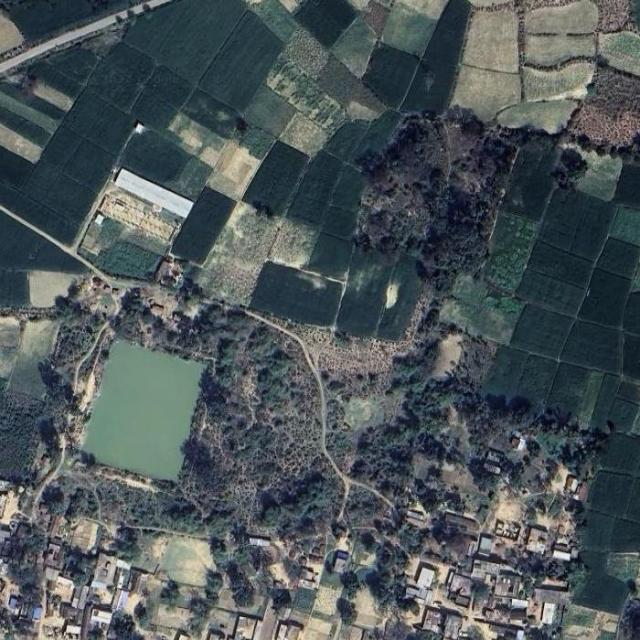land-Sx1C: (84, 342, 201, 479), (125, 0, 246, 83), (196, 201, 281, 304), (200, 11, 282, 110), (266, 54, 345, 134), (1, 0, 149, 41), (250, 261, 342, 324), (0, 377, 49, 487), (0, 212, 85, 272), (171, 186, 236, 264), (338, 250, 395, 336), (0, 184, 79, 243), (244, 141, 307, 214), (502, 142, 558, 221), (438, 294, 520, 347), (7, 319, 59, 398), (451, 65, 521, 121), (121, 130, 190, 185), (376, 255, 421, 339), (362, 44, 419, 108), (290, 151, 341, 222), (462, 10, 519, 73), (574, 551, 629, 613), (422, 0, 471, 66), (511, 305, 571, 358), (516, 269, 585, 315), (154, 535, 215, 587), (207, 141, 260, 200), (169, 113, 226, 167), (562, 321, 620, 373), (570, 104, 640, 147), (522, 60, 595, 101), (381, 4, 438, 56), (84, 241, 162, 279), (35, 174, 95, 222), (496, 99, 578, 134), (295, 0, 356, 47), (540, 189, 587, 250), (580, 269, 630, 326), (529, 242, 593, 286), (585, 65, 640, 116), (401, 61, 456, 112), (570, 198, 615, 260), (331, 18, 376, 78), (184, 90, 240, 138), (525, 0, 599, 36), (0, 91, 60, 134), (64, 140, 114, 191), (351, 110, 400, 162), (245, 86, 295, 136), (90, 61, 140, 111), (0, 81, 65, 119), (269, 219, 318, 268), (481, 346, 527, 398), (575, 151, 622, 201), (86, 106, 133, 155), (105, 42, 154, 88), (547, 364, 590, 416), (525, 35, 596, 66), (285, 29, 329, 79), (164, 156, 213, 200), (279, 113, 329, 156), (318, 54, 359, 106), (518, 355, 558, 407), (307, 233, 353, 278), (250, 0, 298, 42), (0, 106, 50, 146), (47, 47, 98, 86), (30, 61, 81, 99), (589, 471, 633, 515), (40, 126, 84, 169), (598, 31, 640, 76), (27, 270, 78, 307), (484, 250, 527, 293), (65, 91, 107, 135), (147, 66, 191, 107), (325, 121, 369, 161), (598, 239, 640, 279), (493, 214, 536, 253), (131, 93, 176, 130), (563, 611, 619, 640), (600, 434, 640, 474), (331, 166, 364, 213), (481, 287, 528, 320), (591, 374, 620, 427), (0, 0, 27, 55), (31, 79, 74, 113), (235, 124, 275, 160), (431, 334, 462, 380), (22, 161, 58, 200), (578, 371, 602, 427), (582, 511, 615, 550), (451, 273, 491, 305), (595, 0, 633, 33), (610, 207, 640, 246), (614, 165, 640, 209), (322, 206, 356, 239), (0, 270, 30, 307), (351, 82, 385, 114), (395, 0, 449, 20), (606, 551, 640, 582), (609, 398, 639, 433), (362, 0, 390, 36), (352, 584, 381, 618), (611, 519, 640, 551), (311, 586, 341, 615), (624, 334, 640, 380), (346, 100, 379, 121), (624, 291, 640, 334), (258, 605, 277, 640), (292, 588, 317, 614), (567, 606, 597, 627), (626, 479, 640, 522), (0, 316, 19, 347), (0, 346, 16, 378), (618, 381, 640, 404), (541, 433, 564, 453), (320, 569, 344, 588), (306, 617, 332, 634), (289, 609, 311, 627), (279, 0, 304, 14), (355, 611, 377, 626), (469, 0, 511, 7), (631, 260, 640, 291), (630, 409, 640, 436), (300, 631, 329, 640), (349, 628, 364, 640), (598, 633, 617, 640)
